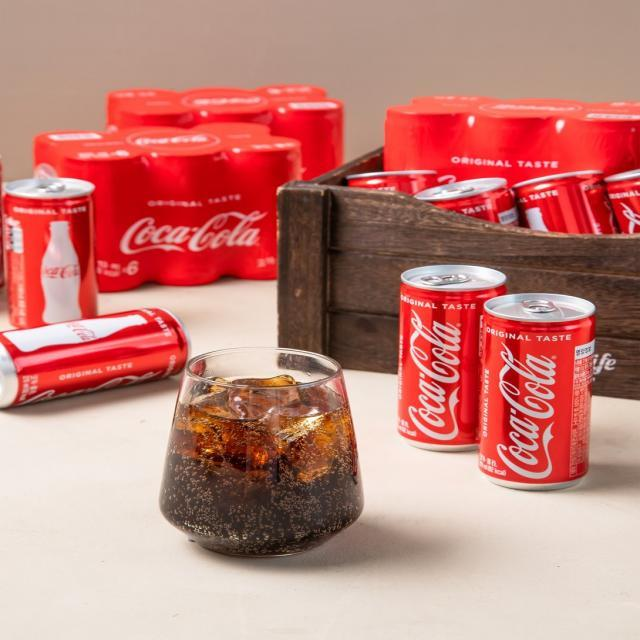coca-cola: (476, 295, 600, 491), (2, 306, 190, 414), (396, 267, 480, 449), (2, 175, 102, 325)
